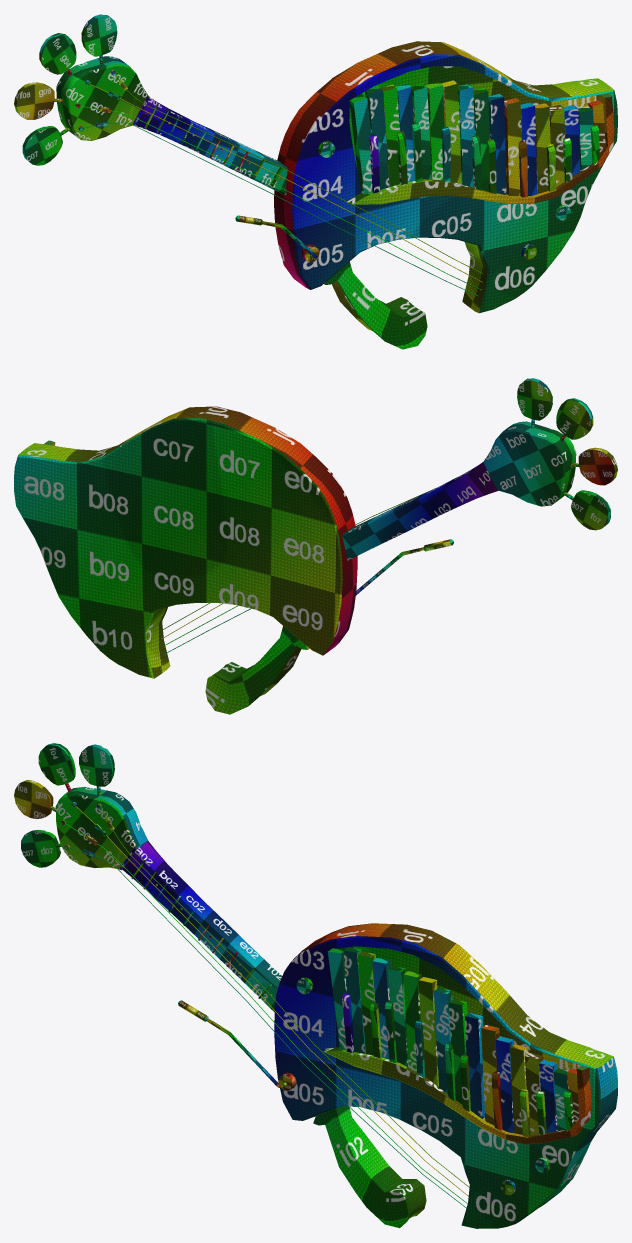
The model's file is Keytar_UV.fbx.
3 renders of one model, top to bottom at view 1: azimuth 30°, elevation 25°; view 2: azimuth 150°, elevation 25°; view 3: azimuth 330°, elevation 25°, orthographic.
Visible parts, largest first — view 1: Keytar_Model_013:Keytar_Body, Keytar_Model_013:Neck_Keytar, Keytar_Model_013:Strings, Keytar_Model_013:Piano_White_Keys_059, Keytar_Model_013:Piano_White_Keys_070, Keytar_Model_013:Piano_White_Keys_067, Keytar_Model_013:Piano_White_Keys_065, Keytar_Model_013:Piano_White_Keys_066, Keytar_Model_013:Piano_White_Keys_062, Keytar_Model_013:Piano_White_Keys_061, Keytar_Model_013:Piano_White_Keys_069, Keytar_Model_013:keytar_tuner (+20 smaller); view 2: Keytar_Model_013:Keytar_Body, Keytar_Model_013:Neck_Keytar, Keytar_Model_013:Keytar_Tuner, Keytar_Model_013:Keytar_Tuner2, Keytar_Model_013:Keytar_Tuner1, Keytar_Model_013:keytar_tuner, whammy, Keytar_Model_013:Strings; view 3: Keytar_Model_013:Keytar_Body, Keytar_Model_013:Neck_Keytar, Keytar_Model_013:Strings, Keytar_Model_013:Piano_White_Keys_069, Keytar_Model_013:Piano_White_Keys_066, Keytar_Model_013:Piano_White_Keys_061, Keytar_Model_013:Piano_White_Keys_064, Keytar_Model_013:Piano_White_Keys_067, Keytar_Model_013:Piano_White_Keys_071, Keytar_Model_013:Piano_White_Keys_065, Keytar_Model_013:Piano_White_Keys_068, Keytar_Model_013:Keytar_Tuner1 (+12 smaller).
Part boxes in pixels (<box>): Keytar_Model_013:Keytar_Body: <box>274,41,617,349</box>; Keytar_Model_013:Neck_Keytar: <box>56,56,287,195</box>; Keytar_Model_013:Strings: <box>80,74,482,296</box>; Keytar_Model_013:Piano_White_Keys_059: <box>349,95,372,194</box>; Keytar_Model_013:Piano_White_Keys_070: <box>504,98,521,195</box>; Keytar_Model_013:Piano_White_Keys_067: <box>458,84,474,187</box>; Keytar_Model_013:Piano_White_Keys_065: <box>425,82,444,180</box>; Keytar_Model_013:Piano_White_Keys_066: <box>441,80,461,184</box>; Keytar_Model_013:Piano_White_Keys_062: <box>380,84,399,186</box>; Keytar_Model_013:Piano_White_Keys_061: <box>365,87,389,189</box>; Keytar_Model_013:Piano_White_Keys_069: <box>488,94,506,194</box>; Keytar_Model_013:keytar_tuner: <box>14,82,54,119</box>; Keytar_Model_013:Keytar_Body: <box>14,406,357,714</box>; Keytar_Model_013:Neck_Keytar: <box>342,421,576,560</box>; Keytar_Model_013:Keytar_Tuner: <box>571,490,610,530</box>; Keytar_Model_013:Keytar_Tuner2: <box>517,378,552,420</box>; Keytar_Model_013:Keytar_Tuner1: <box>556,398,593,439</box>; Keytar_Model_013:keytar_tuner: <box>578,447,617,485</box>; whammy: <box>355,539,453,595</box>; Keytar_Model_013:Strings: <box>160,489,444,654</box>; Keytar_Model_013:Keytar_Body: <box>274,923,617,1228</box>; Keytar_Model_013:Neck_Keytar: <box>55,787,282,1011</box>; Keytar_Model_013:Strings: <box>66,806,469,1208</box>; Keytar_Model_013:Piano_White_Keys_069: <box>465,1013,484,1118</box>; Keytar_Model_013:Piano_White_Keys_066: <box>418,977,438,1086</box>; Keytar_Model_013:Piano_White_Keys_061: <box>343,947,365,1053</box>; Keytar_Model_013:Piano_White_Keys_064: <box>388,965,407,1066</box>; Keytar_Model_013:Piano_White_Keys_067: <box>433,988,452,1093</box>; Keytar_Model_013:Piano_White_Keys_071: <box>495,1036,513,1132</box>; Keytar_Model_013:Piano_White_Keys_065: <box>403,971,421,1071</box>; Keytar_Model_013:Piano_White_Keys_068: <box>448,999,467,1104</box>; Keytar_Model_013:Keytar_Tuner1: <box>38,743,75,785</box>.
Size of the model in its own units: 1.18 by 0.7613 by 0.1348.
1 material, 1 textured.
